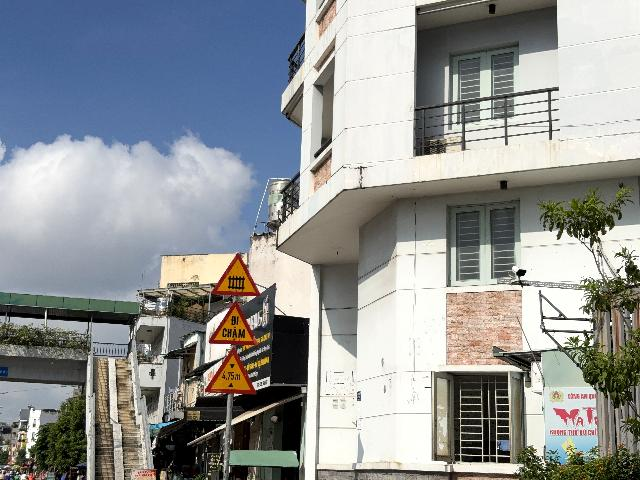chieu-cao-tinh-khong-thuc-te: (204, 347, 257, 394)
di-cham: (208, 301, 258, 345)
noi-giao-nhau-voi-duong-sat-co-rao-chan: (211, 252, 261, 297)
